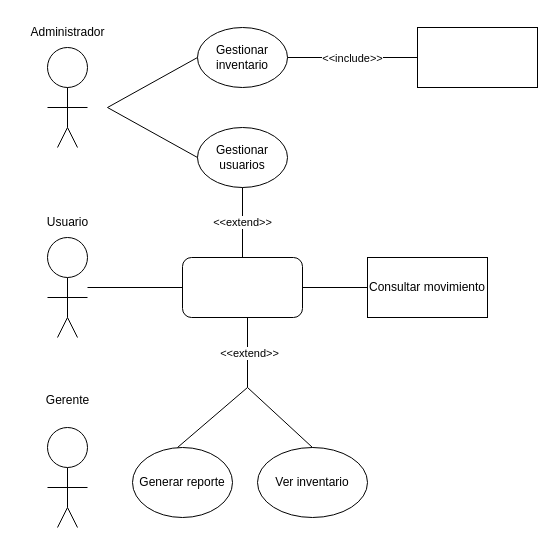
The diagram is 555 pixels wide and 546 high, and some of its shapes have lost their labels. The box of each missing label's shape, as (x1, y1, x2, y2) in pixels:
- Registrar producto - Actualizar producto - Eliminar producto: (416, 26, 538, 88)
Autenticación: (182, 256, 302, 318)
